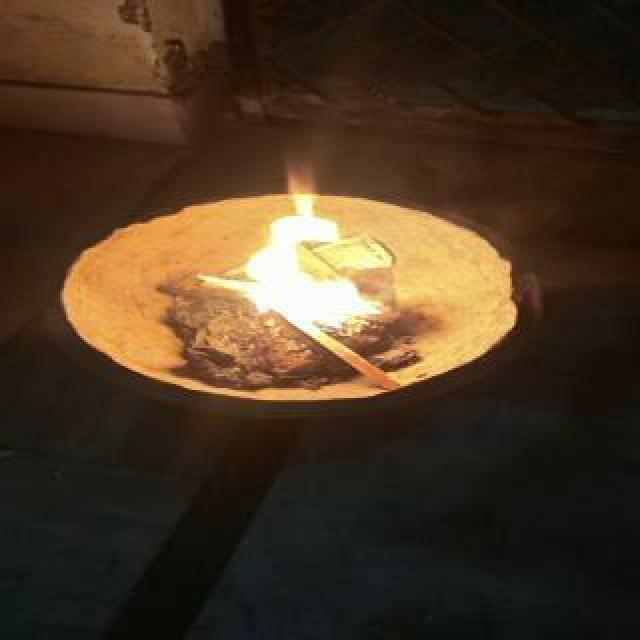Fire: (232, 194, 420, 324)
